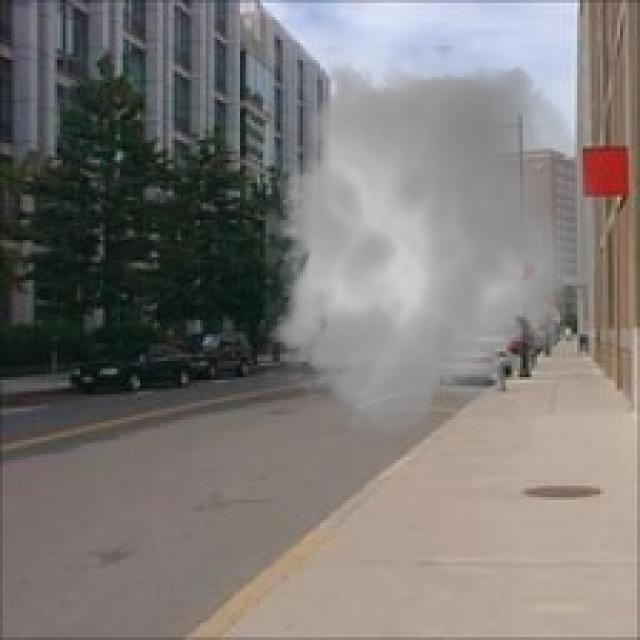Smoke: (248, 46, 614, 454)
